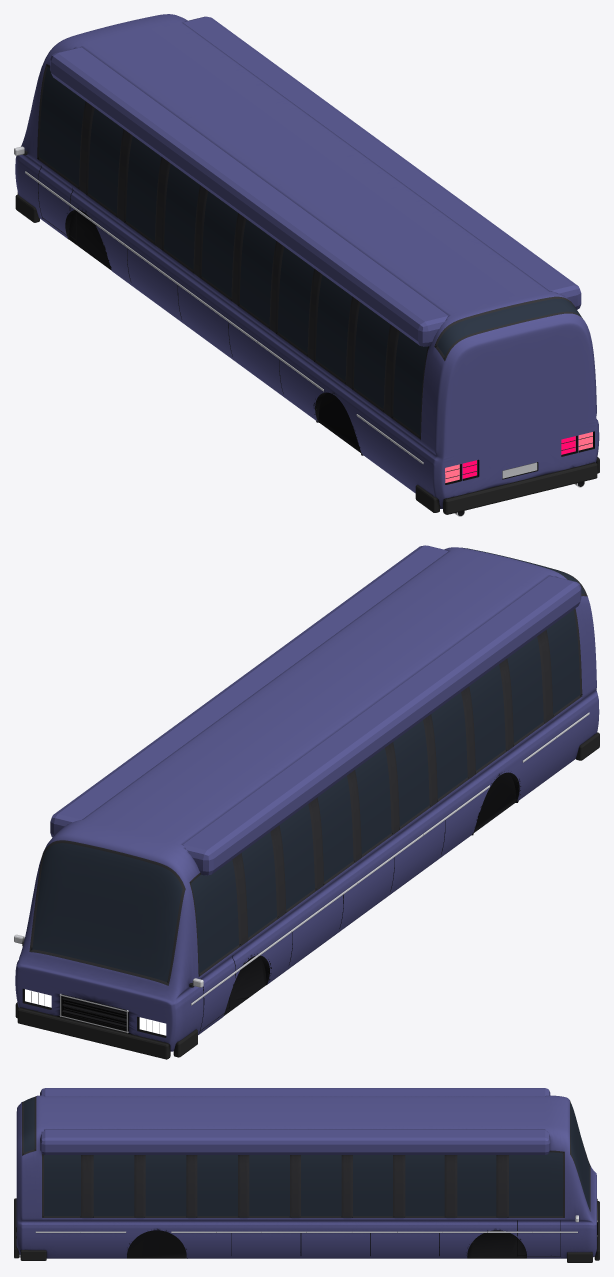
Rendered from bus.glb.
The picture shows the model from 3 angles, top to bottom: view 1: azimuth 30°, elevation 25°; view 2: azimuth 150°, elevation 25°; view 3: azimuth 270°, elevation 25°; orthographic projection. The views are drawn at different scales.
Parts seen in each view (by area): view 1: body, glass_panes, part, part.024; view 2: body, glass_panes, part, part.021; view 3: body, glass_panes, part, part.026, part.023.
Boxes of the visible parts, left/top/right/bottom form: body: left=15, top=14, right=599, bottom=508; glass_panes: left=39, top=67, right=581, bottom=435; part: left=50, top=16, right=581, bottom=346; part.024: left=443, top=462, right=597, bottom=514; body: left=15, top=547, right=599, bottom=1051; glass_panes: left=32, top=547, right=584, bottom=981; part: left=50, top=545, right=581, bottom=875; part.021: left=17, top=1007, right=170, bottom=1059; body: left=16, top=1095, right=596, bottom=1258; glass_panes: left=23, top=1097, right=589, bottom=1216; part: left=40, top=1088, right=550, bottom=1154; part.026: left=20, top=1250, right=46, bottom=1260; part.023: left=567, top=1252, right=592, bottom=1262.
Size of the model in its own units: 2.82 by 2.65 by 11.18.
